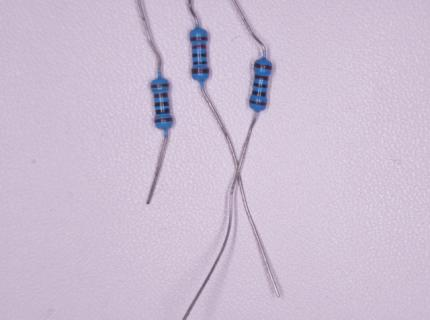Black band: (253, 82, 268, 89), (155, 108, 170, 114), (253, 91, 266, 97), (155, 102, 169, 107)
Brown band: (254, 63, 272, 70), (155, 117, 173, 123), (254, 74, 269, 81), (250, 100, 267, 106), (151, 84, 169, 88), (154, 93, 168, 98)
